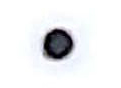cancer: (23, 11, 97, 80)
